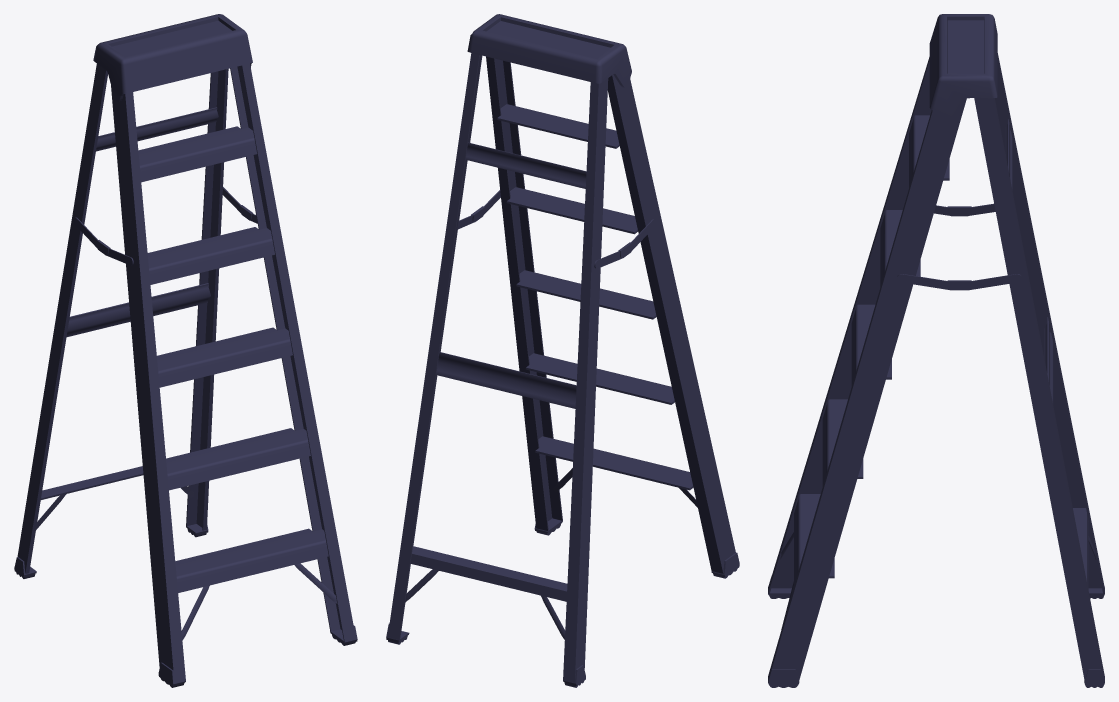
The model's file is merdiven.fbx.
3 views of the same model, side by side, from view 1: azimuth 30°, elevation 25°; view 2: azimuth 150°, elevation 25°; view 3: azimuth 270°, elevation 25° (orthographic). The views are drawn at different scales.
Visible parts, largest first — view 1: SM_Ladder_01b_Internal:Mesh; view 2: SM_Ladder_01b_Internal:Mesh; view 3: SM_Ladder_01b_Internal:Mesh.
Boxes of the visible parts, x1,y1,x2,y2 form: SM_Ladder_01b_Internal:Mesh: (14, 14, 357, 687); SM_Ladder_01b_Internal:Mesh: (386, 14, 739, 687); SM_Ladder_01b_Internal:Mesh: (768, 14, 1104, 687).
Size of the model in its own units: 62.09 by 181 by 92.51.
